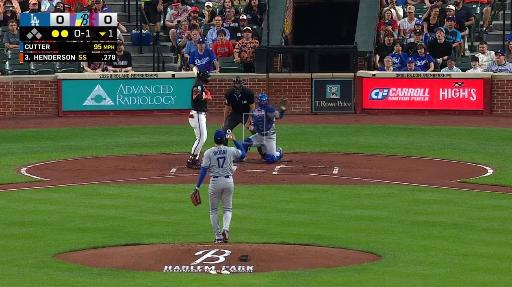pitcher: (189, 129, 246, 245)
